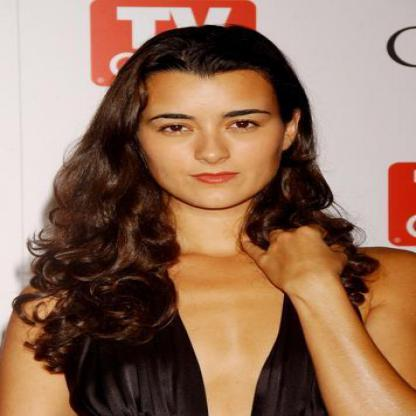long-hair: (24, 210, 364, 235)
